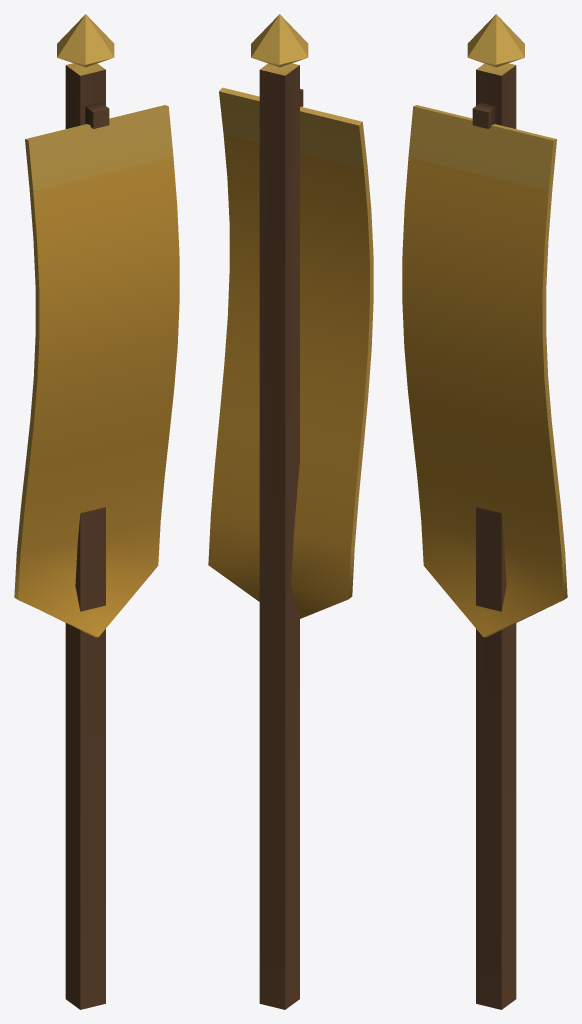
File: BannerSaffron.glb
3 views of the same model, side by side, from view 1: azimuth 30°, elevation 25°; view 2: azimuth 150°, elevation 25°; view 3: azimuth 330°, elevation 25° (orthographic).
Parts seen in each view (by area): view 1: Flag.001, Pole.002; view 2: Flag.001, Pole.002; view 3: Flag.001, Pole.002.
Part boxes in pixels (<box>): Flag.001: <box>14,105,179,637</box>; Pole.002: <box>57,14,114,1009</box>; Flag.001: <box>208,87,373,618</box>; Pole.002: <box>251,14,308,1009</box>; Flag.001: <box>402,105,567,637</box>; Pole.002: <box>467,14,524,1009</box>.
Bounding box in the file's own units: 2.2 × 14.8 × 1.03.
